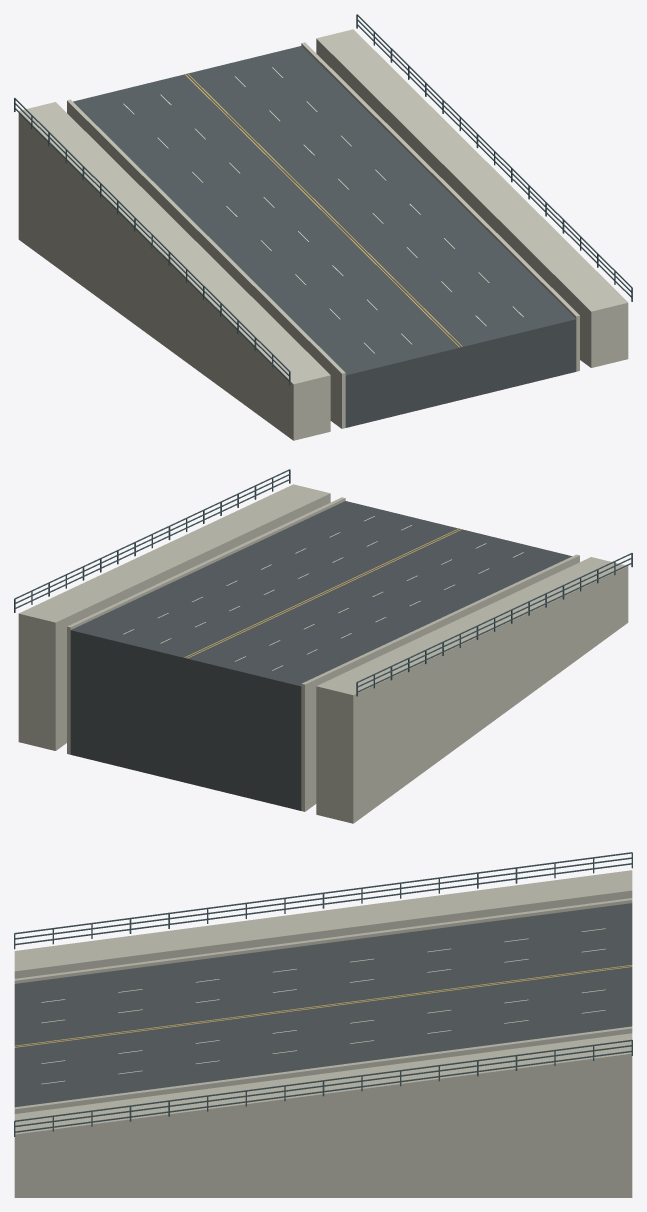
Rendered from KOL_HBR_RF_01.fbx.
3 renders of one model, top to bottom at view 1: azimuth 30°, elevation 25°; view 2: azimuth 150°, elevation 25°; view 3: azimuth 270°, elevation 25°, orthographic. The views are drawn at different scales.
Visible parts, largest first — view 1: KOL_HBR_RF_01__Ramp__Asphalt, KOL_HBR_RF_01__Ramp__Concrete, KOL_HBR_RF_01__Ramp__DarkSteel, KOL_HBR_RF_01__Ramp__Yellow, KOL_HBR_RF_01__Ramp__White; view 2: KOL_HBR_RF_01__Ramp__Asphalt, KOL_HBR_RF_01__Ramp__Concrete, KOL_HBR_RF_01__Ramp__DarkSteel, KOL_HBR_RF_01__Ramp__Yellow, KOL_HBR_RF_01__Ramp__White; view 3: KOL_HBR_RF_01__Ramp__Concrete, KOL_HBR_RF_01__Ramp__Asphalt, KOL_HBR_RF_01__Ramp__DarkSteel, KOL_HBR_RF_01__Ramp__Yellow, KOL_HBR_RF_01__Ramp__White.
Part boxes in pixels (x1,y1,x2,y2): KOL_HBR_RF_01__Ramp__Asphalt: (73, 46, 576, 427); KOL_HBR_RF_01__Ramp__Concrete: (18, 29, 628, 440); KOL_HBR_RF_01__Ramp__DarkSteel: (14, 14, 632, 385); KOL_HBR_RF_01__Ramp__Yellow: (184, 73, 462, 347); KOL_HBR_RF_01__Ramp__White: (123, 67, 523, 353); KOL_HBR_RF_01__Ramp__Asphalt: (70, 501, 571, 810); KOL_HBR_RF_01__Ramp__Concrete: (18, 484, 628, 823); KOL_HBR_RF_01__Ramp__DarkSteel: (14, 469, 632, 696); KOL_HBR_RF_01__Ramp__Yellow: (184, 528, 462, 658); KOL_HBR_RF_01__Ramp__White: (123, 516, 523, 670); KOL_HBR_RF_01__Ramp__Concrete: (14, 870, 632, 1197); KOL_HBR_RF_01__Ramp__Asphalt: (14, 903, 632, 1107); KOL_HBR_RF_01__Ramp__DarkSteel: (14, 852, 632, 1136); KOL_HBR_RF_01__Ramp__Yellow: (14, 965, 632, 1047); KOL_HBR_RF_01__Ramp__White: (41, 928, 605, 1084).
Bounding box in the file's own units: 92.25 × 36.62 × 128.
